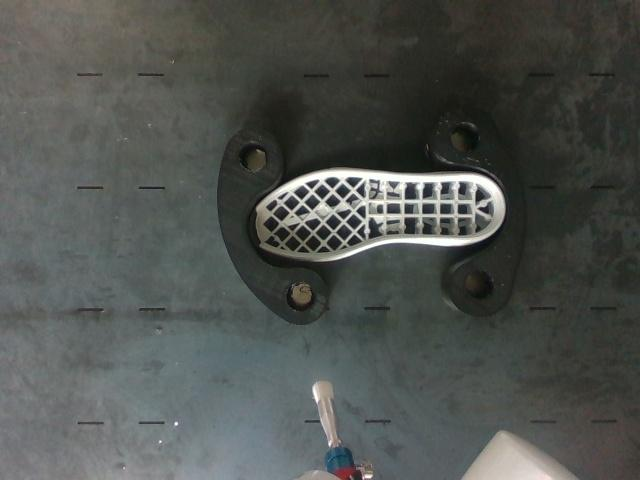shoes: (250, 171, 504, 259)
